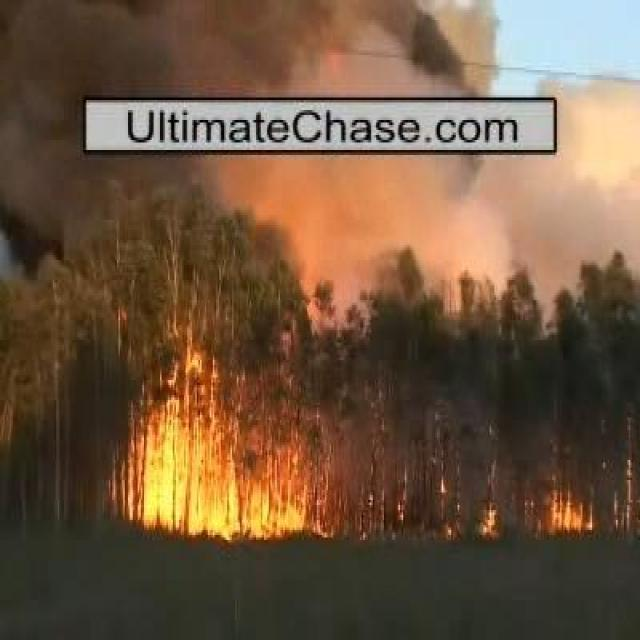fire: (142, 425, 239, 533)
smoke: (62, 5, 494, 93), (247, 160, 574, 248)
